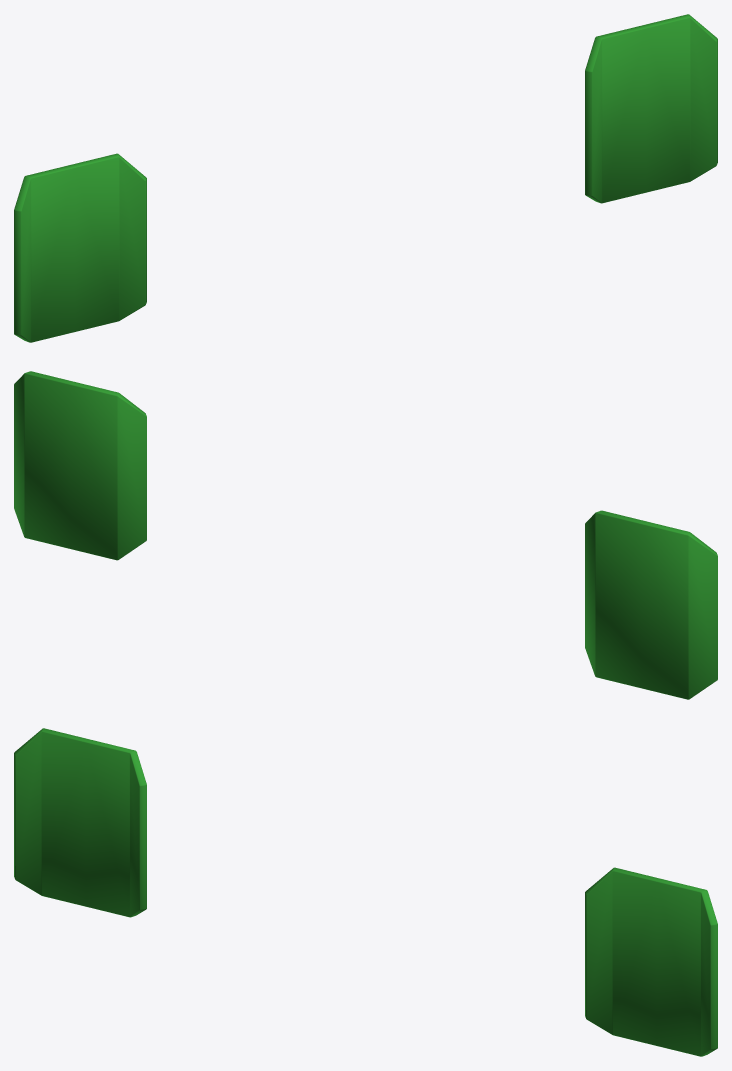
Rendered from Flap.glb.
3 renders of one model, top to bottom at view 1: azimuth 30°, elevation 25°; view 2: azimuth 150°, elevation 25°; view 3: azimuth 330°, elevation 25°, orthographic.
Visible parts, largest first — view 1: Track Plate.002; view 2: Track Plate.002; view 3: Track Plate.002.
Boxes of the visible parts, x1,y1,x2,y2 form: Track Plate.002: [14, 14, 717, 342]; Track Plate.002: [14, 371, 717, 699]; Track Plate.002: [14, 728, 717, 1056].
Bounding box in the file's own units: 3.94 × 0.8832 × 0.1206.
